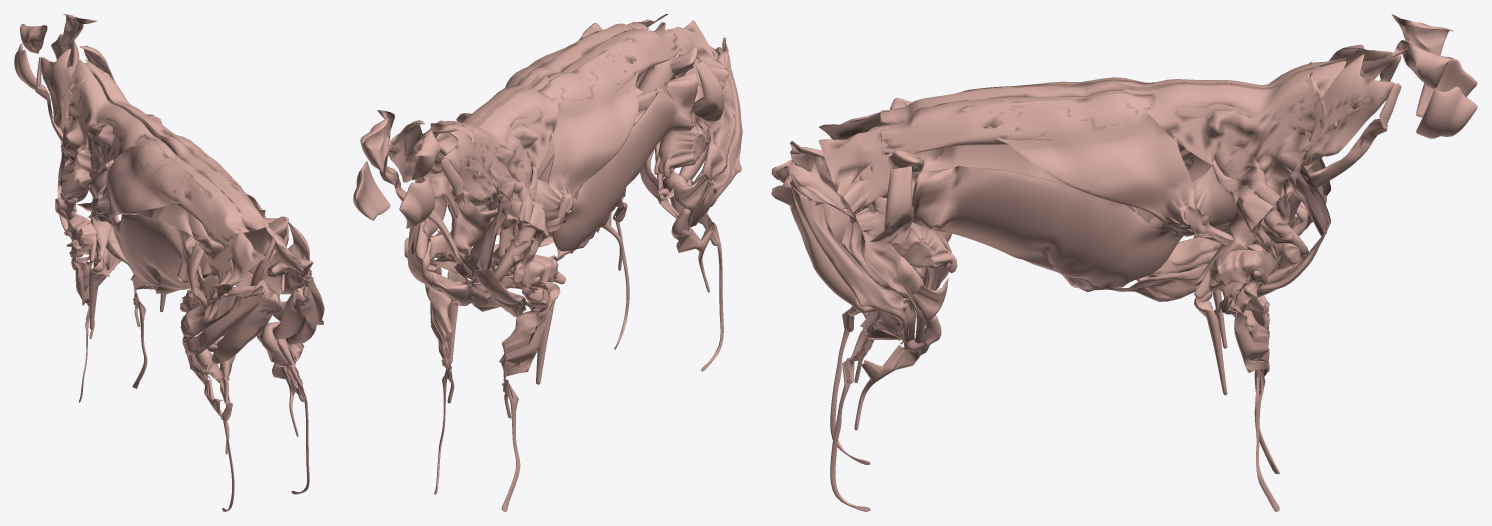
File: muscular.glb
3 renders of one model, left to right at view 1: azimuth 30°, elevation 25°; view 2: azimuth 150°, elevation 25°; view 3: azimuth 270°, elevation 25°, orthographic. The views are drawn at different scales.
Visible parts, largest first — view 1: cow_muscular_epaxial_L, cow_muscular_obliquus-externus-abdominis_L, cow_muscular_latissimus-dorsi_L, cow_muscular_trapezius_L, cow_muscular_epaxial_R, cow_muscular_biceps-femoris_caudal_L, cow_muscular_obliquus-externus-abdominis_R, cow_muscular_brachiocephalicus_cleidocephalicus_L, cow_muscular_biceps-femoris_cranial_L, cow_muscular_semitendinosus_L, cow_muscular_gluteus-superficialis_L, cow_muscular_semimembranosus_R (+35 smaller); view 2: cow_muscular_latissimus-dorsi_L, cow_muscular_obliquus-externus-abdominis_L, cow_muscular_trapezius_L, cow_muscular_epaxial_L, cow_muscular_biceps-femoris_cranial_L, cow_muscular_epaxial_R, cow_muscular_brachiocephalicus_cleidocephalicus_L, cow_muscular_biceps-femoris_caudal_L, cow_muscular_extensor-digitorum-communis_L, cow_muscular_sternocephalicus_L, cow_muscular_supraspinatus_L, cow_muscular_tensor-fasciae-latae_L (+35 smaller); view 3: cow_muscular_obliquus-externus-abdominis_R, cow_muscular_latissimus-dorsi_R, cow_muscular_trapezius_R, cow_muscular_epaxial_R, cow_muscular_biceps-femoris_cranial_R, cow_muscular_brachiocephalicus_cleidocephalicus_R, cow_muscular_biceps-femoris_caudal_R, cow_muscular_epaxial_L, cow_muscular_gluteus-superficialis_R, cow_muscular_obliquus-externus-abdominis_L, cow_muscular_triceps-brachii_lateral_R, cow_muscular_serratus-ventralis_R (+25 smaller).
Boxes of the visible parts, box(x1,y1,x2,y2) form: cow_muscular_epaxial_L: box(56, 65, 249, 245); cow_muscular_obliquus-externus-abdominis_L: box(110, 214, 228, 296); cow_muscular_latissimus-dorsi_L: box(87, 133, 209, 221); cow_muscular_trapezius_L: box(62, 59, 161, 170); cow_muscular_epaxial_R: box(84, 63, 271, 230); cow_muscular_biceps-femoris_caudal_L: box(184, 293, 263, 419); cow_muscular_obliquus-externus-abdominis_R: box(193, 194, 288, 293); cow_muscular_brachiocephalicus_cleidocephalicus_L: box(41, 48, 72, 186); cow_muscular_biceps-femoris_cranial_L: box(180, 285, 263, 372); cow_muscular_semitendinosus_L: box(212, 296, 277, 364); cow_muscular_gluteus-superficialis_L: box(216, 228, 265, 298); cow_muscular_semimembranosus_R: box(267, 284, 306, 338); cow_muscular_latissimus-dorsi_L: box(532, 38, 638, 240); cow_muscular_obliquus-externus-abdominis_L: box(551, 73, 697, 253); cow_muscular_trapezius_L: box(447, 76, 557, 220); cow_muscular_epaxial_L: box(438, 29, 680, 177); cow_muscular_biceps-femoris_cranial_L: box(673, 37, 735, 231); cow_muscular_epaxial_R: box(406, 21, 648, 174); cow_muscular_brachiocephalicus_cleidocephalicus_L: box(444, 129, 506, 274); cow_muscular_biceps-femoris_caudal_L: box(690, 47, 742, 245); cow_muscular_extensor-digitorum-communis_L: box(501, 301, 553, 511); cow_muscular_sternocephalicus_L: box(440, 158, 499, 276); cow_muscular_supraspinatus_L: box(493, 161, 537, 281); cow_muscular_tensor-fasciae-latae_L: box(692, 61, 724, 134); cow_muscular_obliquus-externus-abdominis_R: box(912, 165, 1183, 288); cow_muscular_latissimus-dorsi_R: box(963, 93, 1262, 250); cow_muscular_trapezius_R: box(1121, 61, 1346, 199); cow_muscular_epaxial_R: box(880, 72, 1361, 153); cow_muscular_biceps-femoris_cranial_R: box(790, 173, 948, 343); cow_muscular_brachiocephalicus_cleidocephalicus_R: box(1291, 54, 1394, 236); cow_muscular_biceps-femoris_caudal_R: box(790, 183, 915, 383); cow_muscular_epaxial_L: box(880, 62, 1364, 124); cow_muscular_gluteus-superficialis_R: box(818, 127, 889, 219); cow_muscular_obliquus-externus-abdominis_L: box(913, 145, 1153, 218); cow_muscular_triceps-brachii_lateral_R: box(1194, 247, 1281, 298); cow_muscular_serratus-ventralis_R: box(1147, 151, 1323, 236).
Size of the model in its own units: 0.4019 by 1.02 by 1.41.
